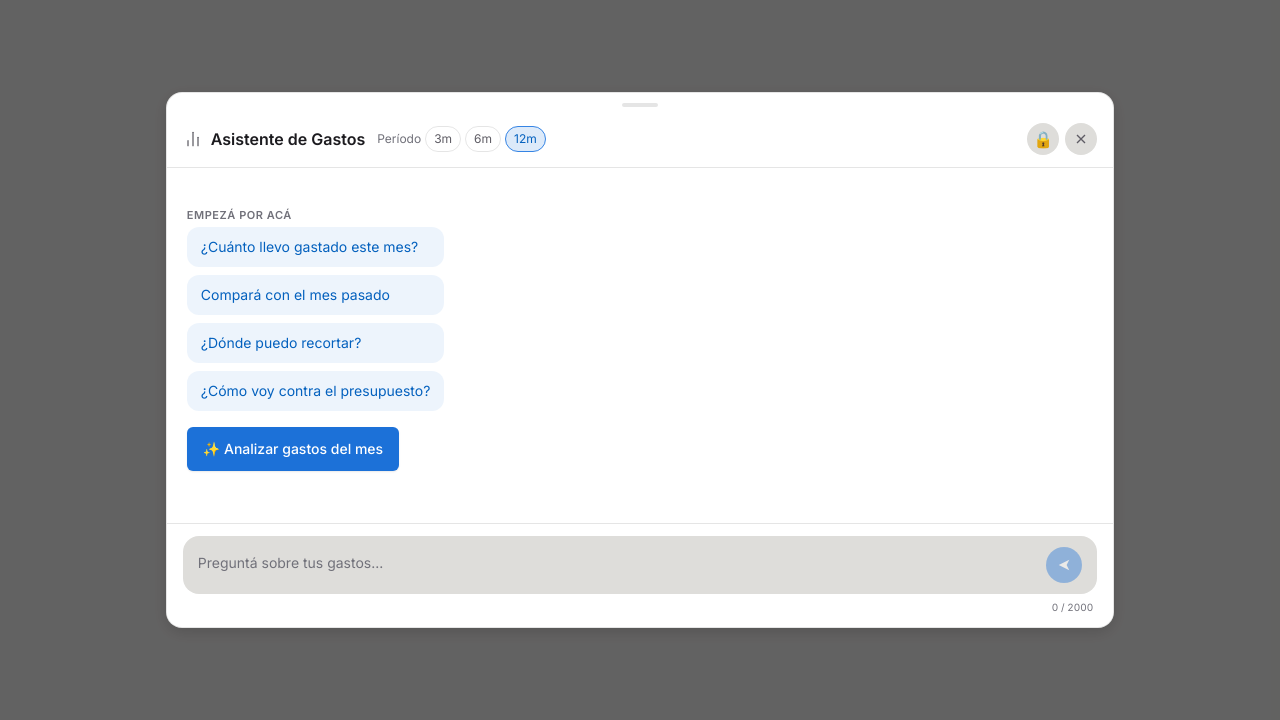
Scenario: AssistantShell › a stream failure tells the user to check their connection, and can be retried
The width and height of the screenshot is (1280, 720).
Type "¿Cuánto gasté?" into the text box. click: point(618, 564)
box: top-left (198, 550), bottom-right (1038, 577)
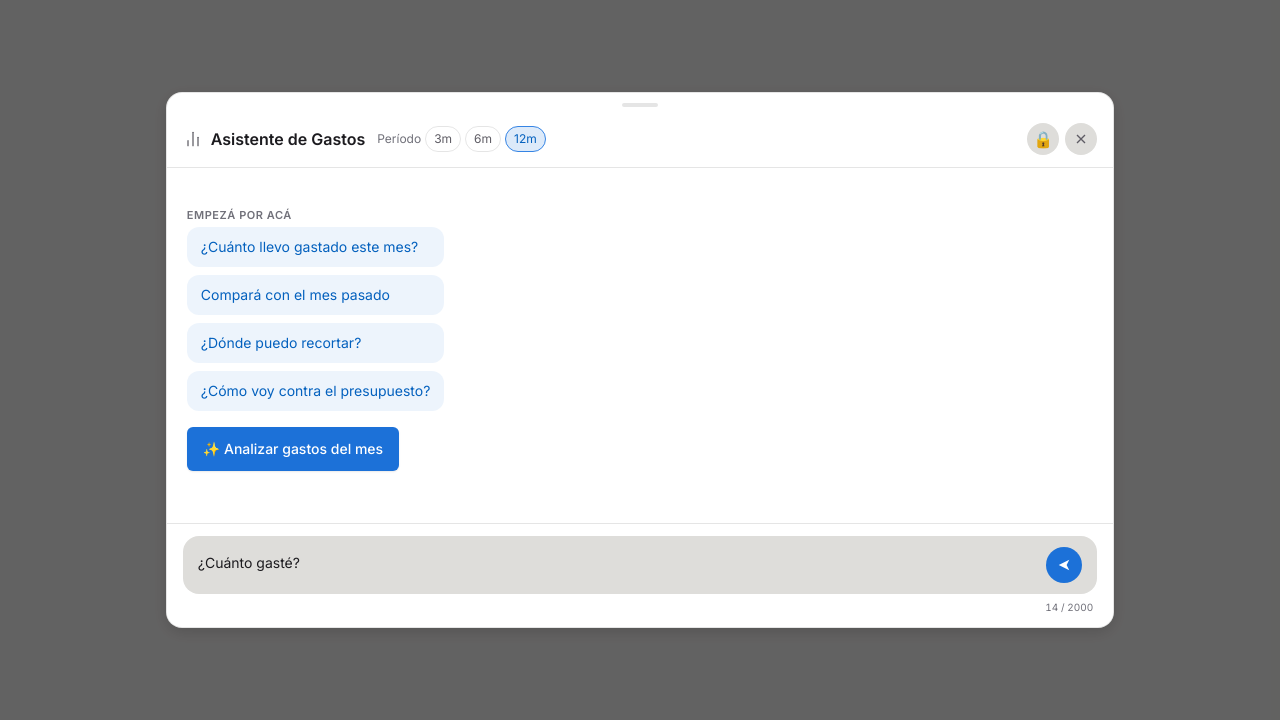
Submit the form, box top-left (183, 536), bottom-right (1097, 594)
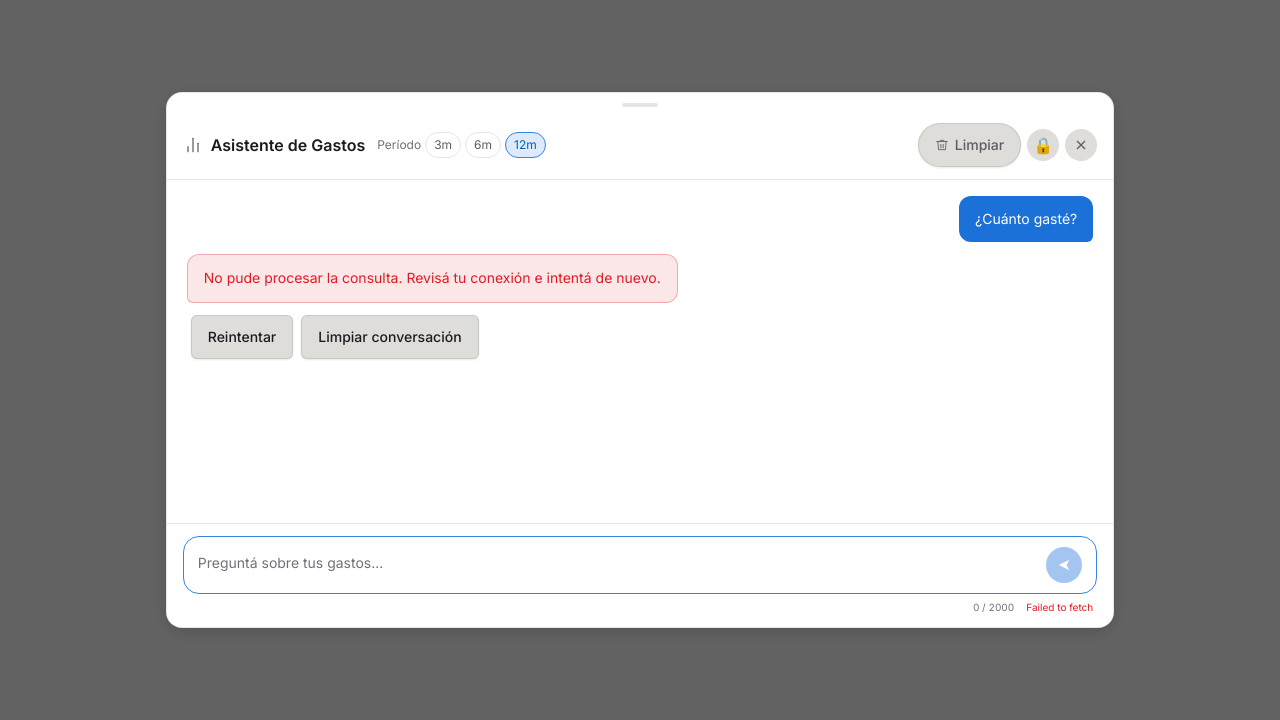
Check: the text "No pude procesar la consulta. Revisá tu conexión e intentá de nuevo." is shown, box top-left (187, 254), bottom-right (678, 303)
Check: the button "Reintentar" is shown, box top-left (191, 315), bottom-right (293, 359)
